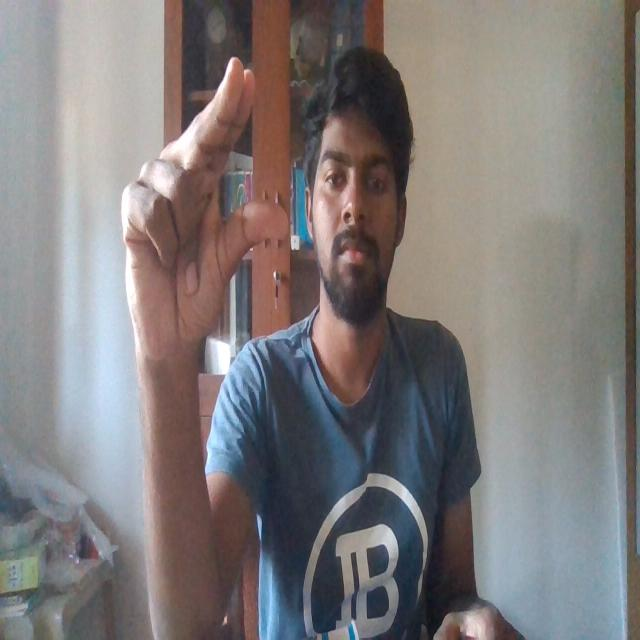No: (116, 50, 297, 360)
